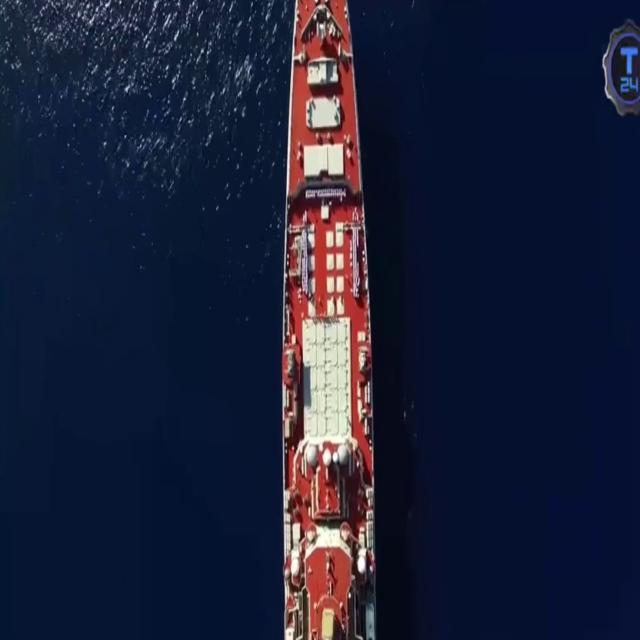navalvessels: (268, 0, 384, 640)
